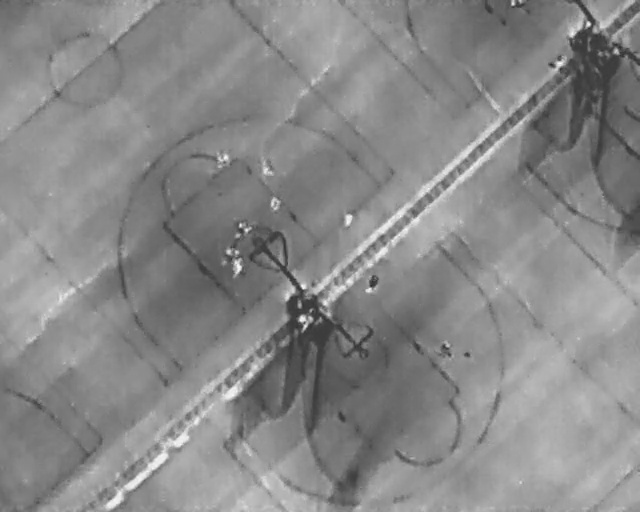Person: (544, 48, 569, 74), (232, 216, 256, 242), (227, 256, 246, 281), (363, 270, 382, 294), (257, 156, 276, 179), (438, 339, 453, 361), (224, 244, 240, 262), (214, 151, 230, 168), (267, 195, 283, 212), (340, 211, 354, 229), (507, 0, 526, 7)
